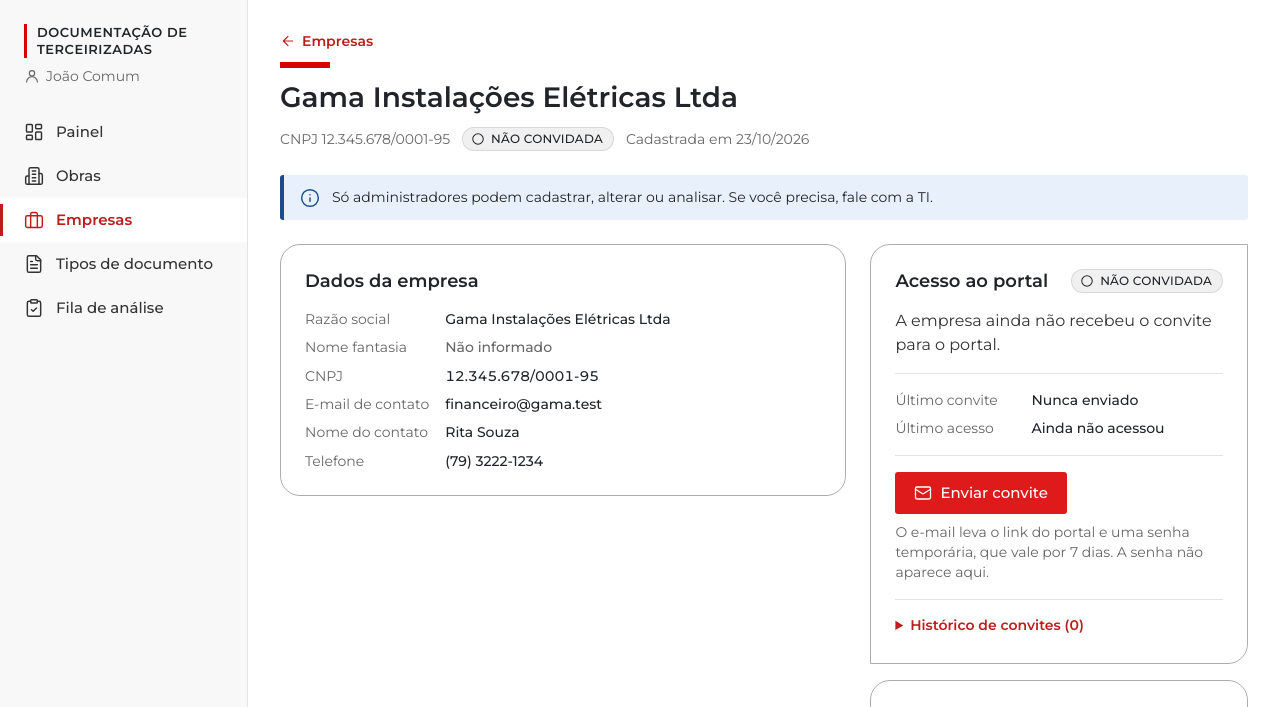
Scenario: Perfil comum › Empresa: "Enviar convite" continua funcionando e muda o selo para "Convidada"
This screenshot has width=1280, height=707.
Check: the heading "Gama Instalações Elétricas Ltda" is shown, box left=280, top=80, right=738, bottom=114
Step 1. Click the button "Enviar convite" → x=981, y=493, box left=895, top=472, right=1067, bottom=514
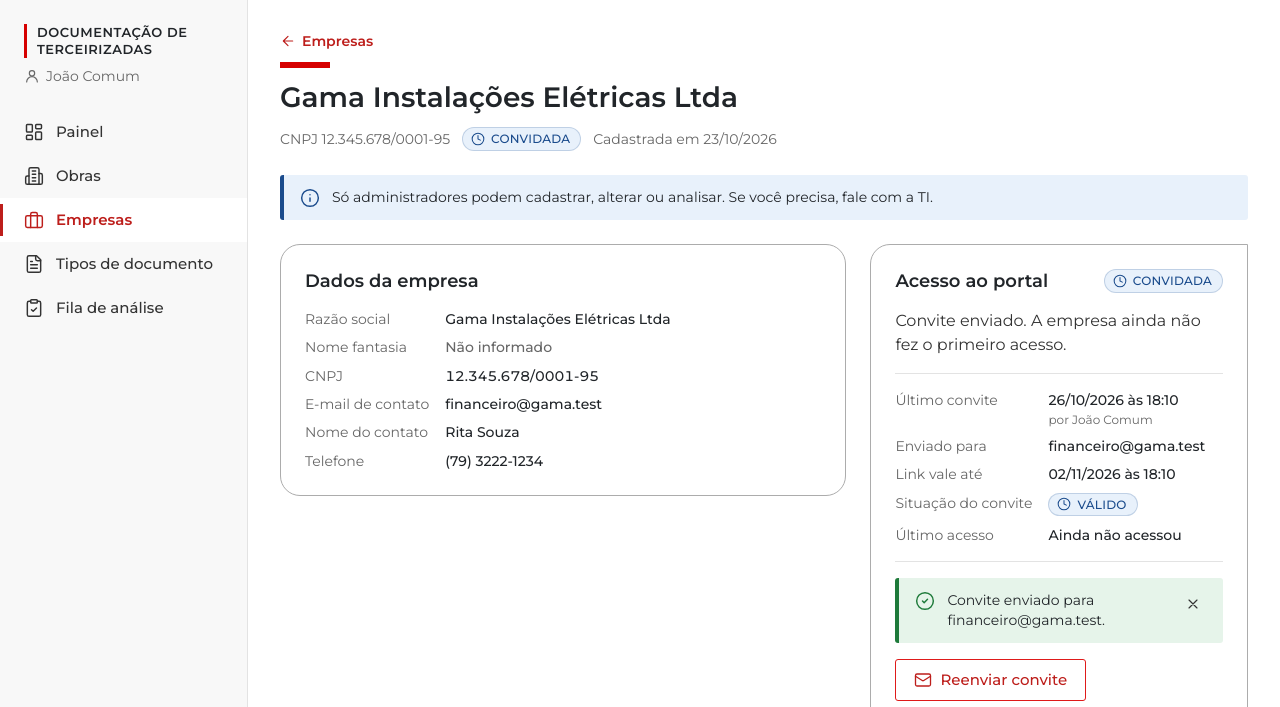
Check: the text "Convidada" next to "Acesso ao portal" is shown, box left=1133, top=273, right=1212, bottom=288
Check: the text "Convite enviado para financeiro@gama.test." is shown, box left=947, top=591, right=1105, bottom=629
